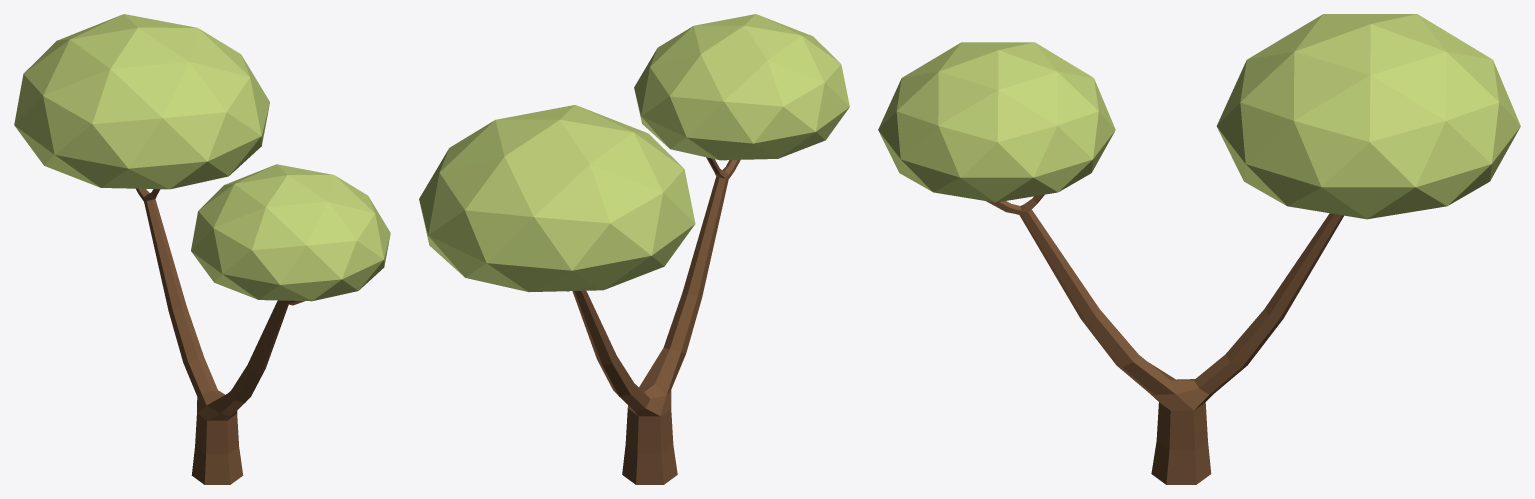
Rendered from Tree2.gltf.
3 views of the same model, side by side, from view 1: azimuth 30°, elevation 25°; view 2: azimuth 150°, elevation 25°; view 3: azimuth 270°, elevation 25° (orthographic). The views are drawn at different scales.
Visible parts, largest first — view 1: Tree2_Icosphere.001; view 2: Tree2_Icosphere.001; view 3: Tree2_Icosphere.001.
Part boxes in pixels (left/top/right/bottom): Tree2_Icosphere.001: left=14, top=14, right=390, bottom=484; Tree2_Icosphere.001: left=419, top=14, right=849, bottom=484; Tree2_Icosphere.001: left=878, top=14, right=1520, bottom=484.
Size of the model in its own units: 2.89 by 4.98 by 6.43.
